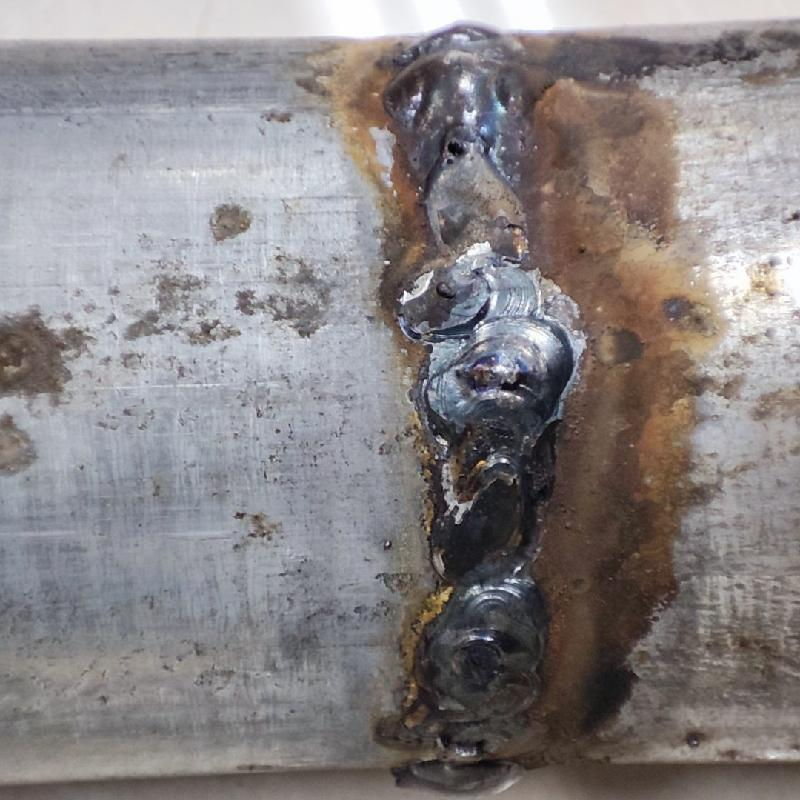Not_fully_soldered: (417, 723, 541, 761)
Surface_pores: (425, 126, 499, 181)
Weld: (378, 22, 527, 175)
wrong_size: (419, 320, 570, 721), (411, 140, 543, 319)
